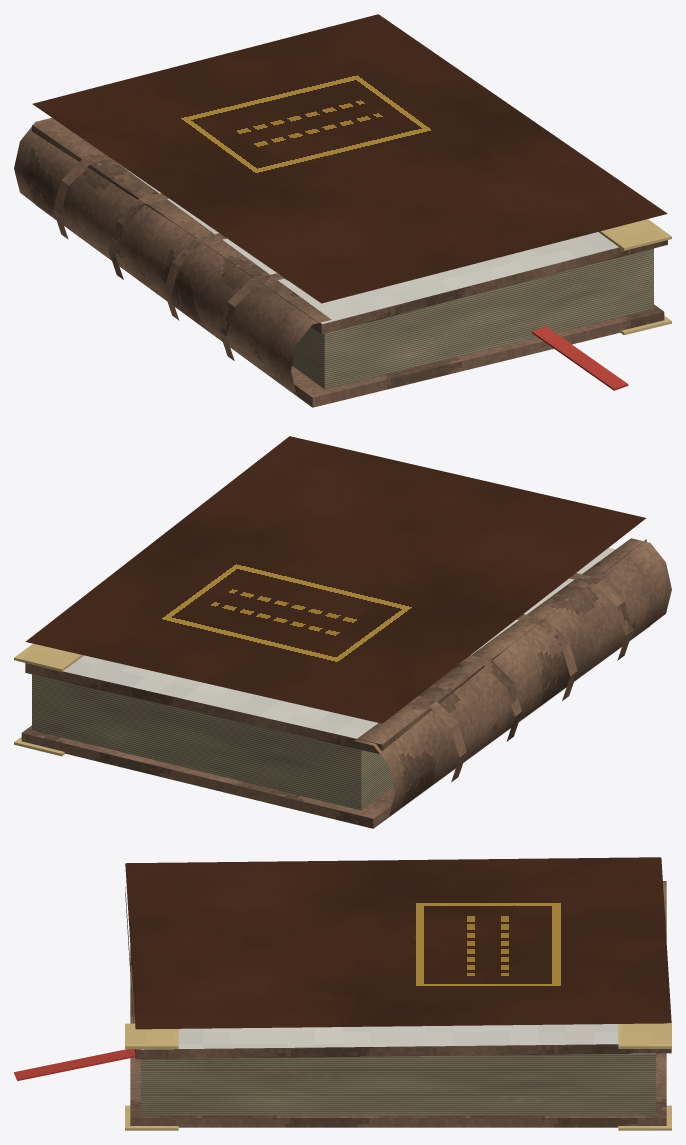
File: item_ledger.glb
3 renders of one model, top to bottom at view 1: azimuth 30°, elevation 25°; view 2: azimuth 150°, elevation 25°; view 3: azimuth 270°, elevation 25°, orthographic. The views are drawn at different scales.
Visible parts, largest first — view 1: ledger; view 2: ledger; view 3: ledger.
Boxes of the visible parts, x1=… form: ledger: x1=14, y1=14, x2=671, y2=407; ledger: x1=14, y1=436, x2=671, y2=828; ledger: x1=14, y1=857, x2=671, y2=1130.
Bounding box in the file's own units: 0.2454 × 0.0637 × 0.3681.
Materials: 6 (6 with a texture image).
